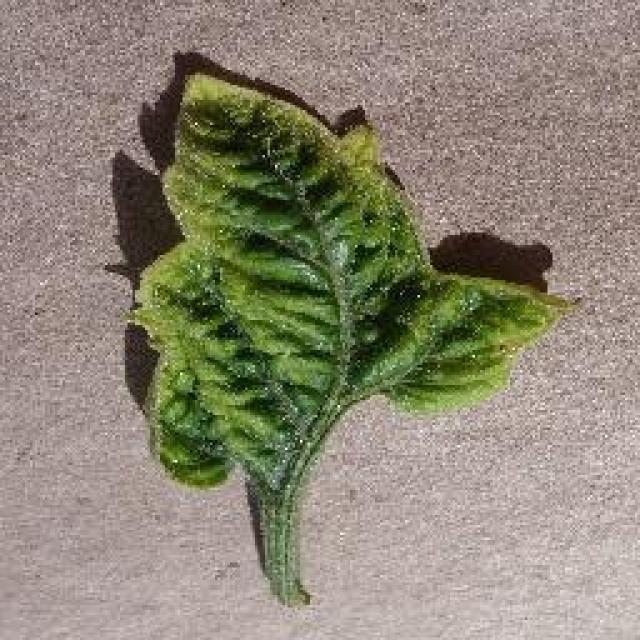Tom_Yellow_Leaf_Curl_Virus: (129, 88, 516, 442)
